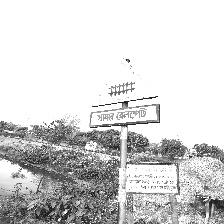Rail-crossing: (94, 53, 160, 130)
